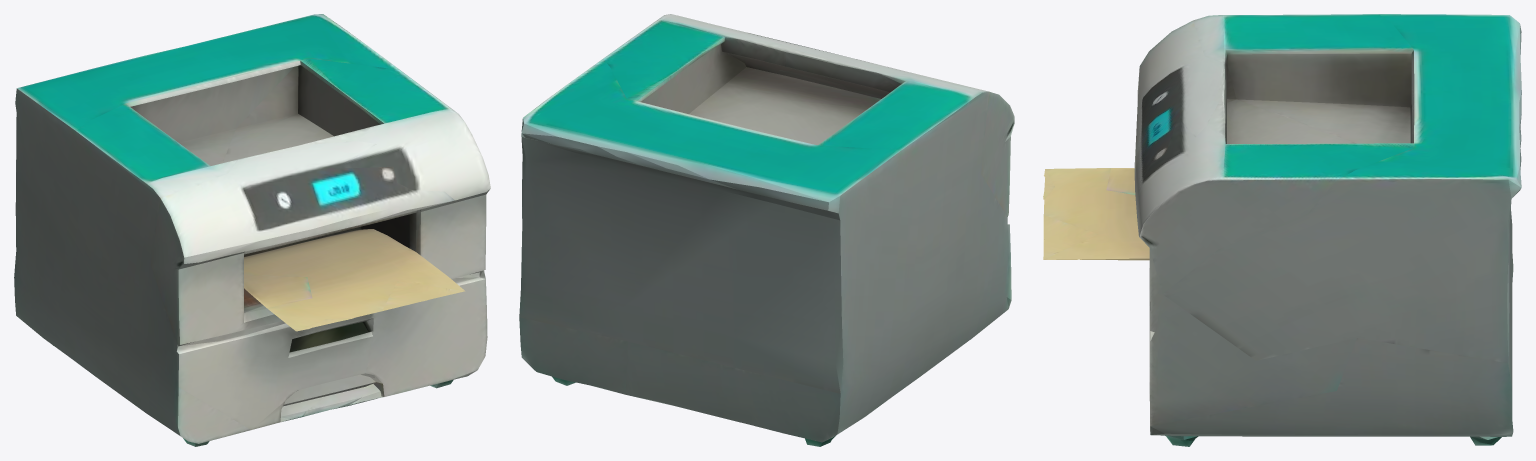
File: printer.glb
3 renders of one model, left to right at view 1: azimuth 30°, elevation 25°; view 2: azimuth 150°, elevation 25°; view 3: azimuth 270°, elevation 25°, orthographic. The views are drawn at different scales.
Visible parts, largest first — view 1: model; view 2: model; view 3: model.
Part boxes in pixels (left/top/right/bottom): model: left=14, top=14, right=490, bottom=446; model: left=519, top=14, right=1014, bottom=446; model: left=1043, top=14, right=1521, bottom=446.
Size of the model in its own units: 1.57 by 1.23 by 1.89.
1 material, 1 textured.
